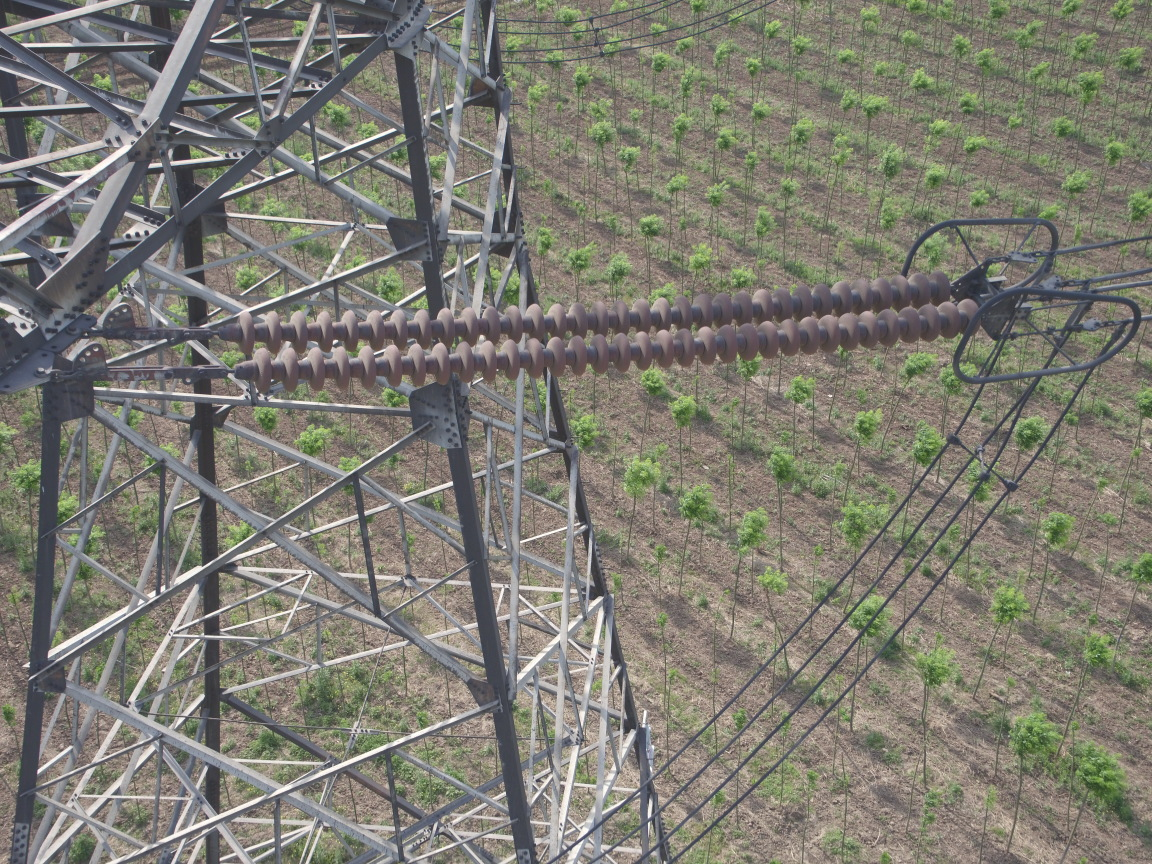insulator: (158, 261, 993, 396)
